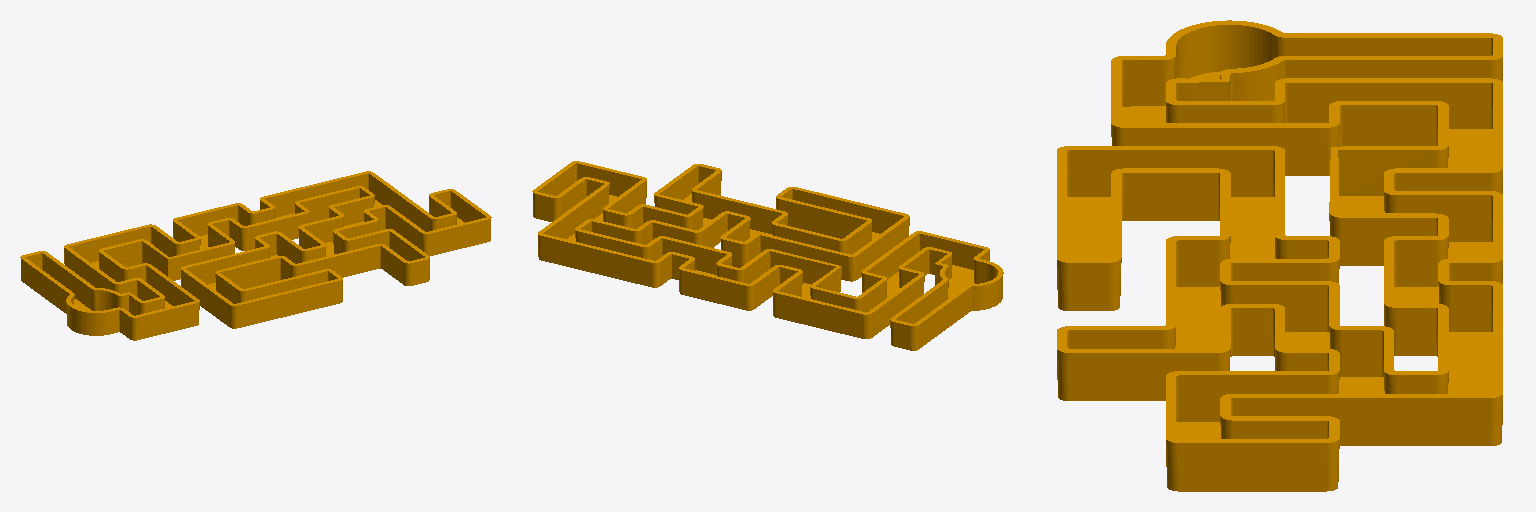
URDF robot description (maze):
<?xml version="1.0"?>
<robot name="maze">
  <link name="maze_link">
    <visual>
      <origin xyz="0 0 0" rpy="0 0 0"/>
      <geometry>
        <mesh filename="maze2.stl" scale="1.5 1.5 .5"/>
      </geometry>
    </visual>
    <collision>
      <origin xyz="0 0 0" rpy="0 0 0"/>
      <geometry>
        <mesh filename="maze2.stl" scale="1.5 1.5 .5"/>
      </geometry>
    </collision>
    <inertial>
      <mass value="0.0"/> <!-- static -->
      <inertia ixx="0" ixy="0" ixz="0" iyy="0" iyz="0" izz="0"/>
      <origin xyz="0 0 0" rpy="0 0 0"/>
    </inertial>
  </link>
</robot>

--- Render facts (derived) ---
The picture shows the robot from 3 angles, left to right: view 1: azimuth 30°, elevation 25°; view 2: azimuth 150°, elevation 25°; view 3: azimuth 270°, elevation 25°; orthographic projection.
Robot: maze — 1 links, 0 joints (none); root link maze_link; default pose: every joint at zero.
Visible links, largest first — view 1: maze_link; view 2: maze_link; view 3: maze_link.
Boxes of the visible links, x1=… form: maze_link: x1=20, y1=171, x2=491, y2=340; maze_link: x1=532, y1=161, x2=1003, y2=350; maze_link: x1=1057, y1=20, x2=1502, y2=491.
Size in the robot's own frame: 28.27 by 12.64 by 1.53 metres.
Meshes: 1 distinct files referenced, 1 mesh visuals loaded (1 binary STL).